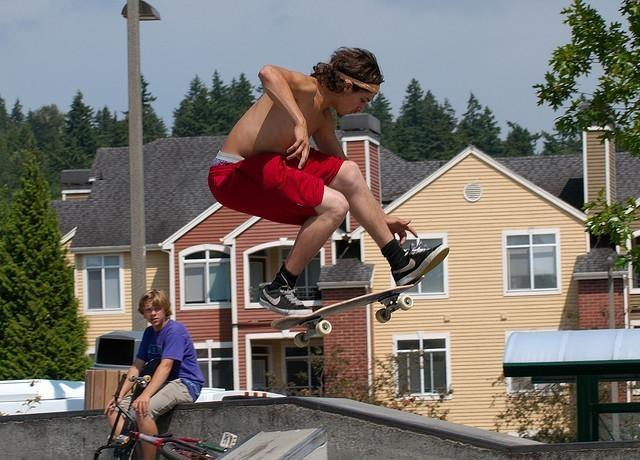bicycle: (94, 371, 238, 459)
